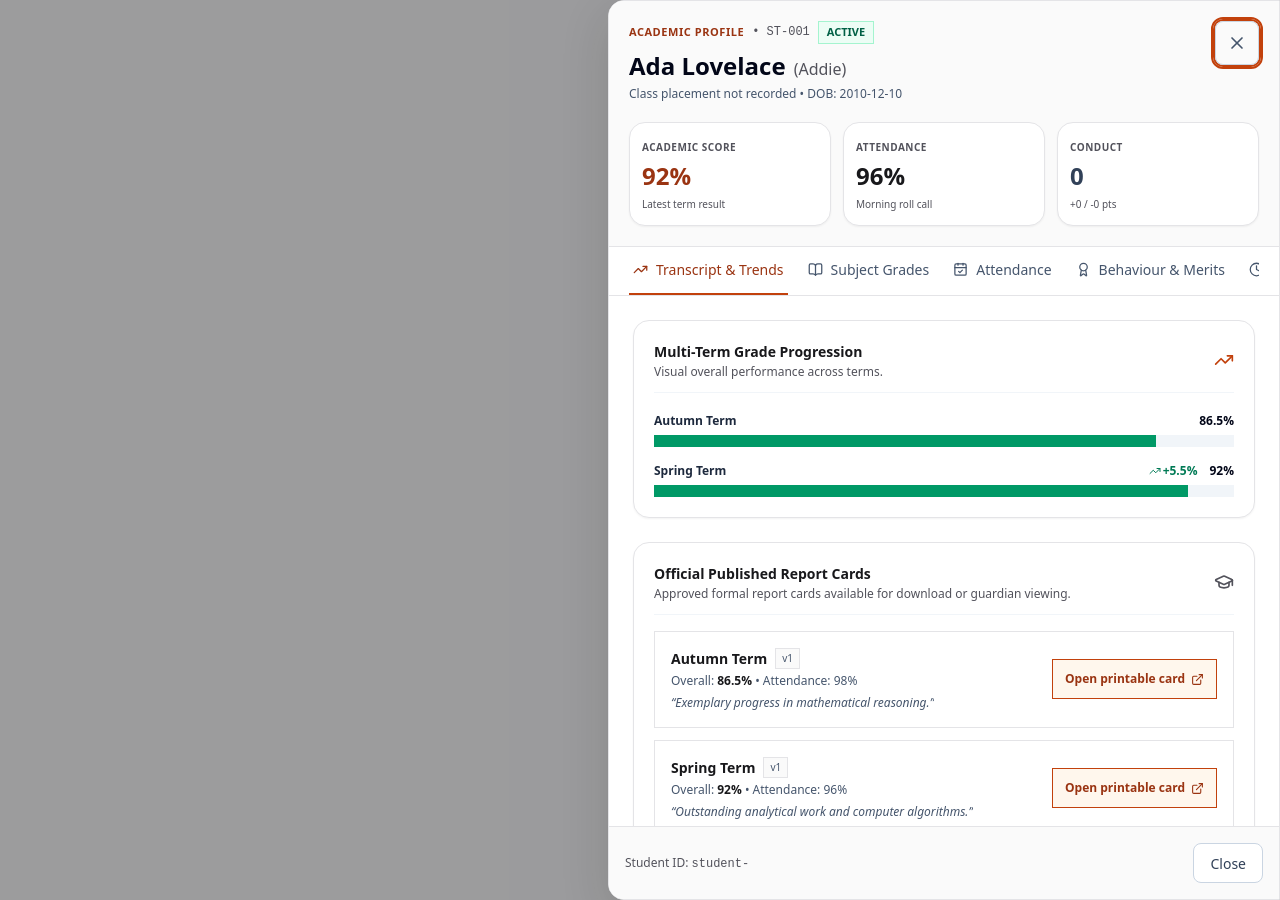
Scenario: StudentAcademicDrawer component › switches to Subject Grades tab and renders curriculum subject scores
The image size is (1280, 900).
Click the button "Subject Grades". click: point(868, 270)
box: x1=804 y1=246 x2=933 y2=294
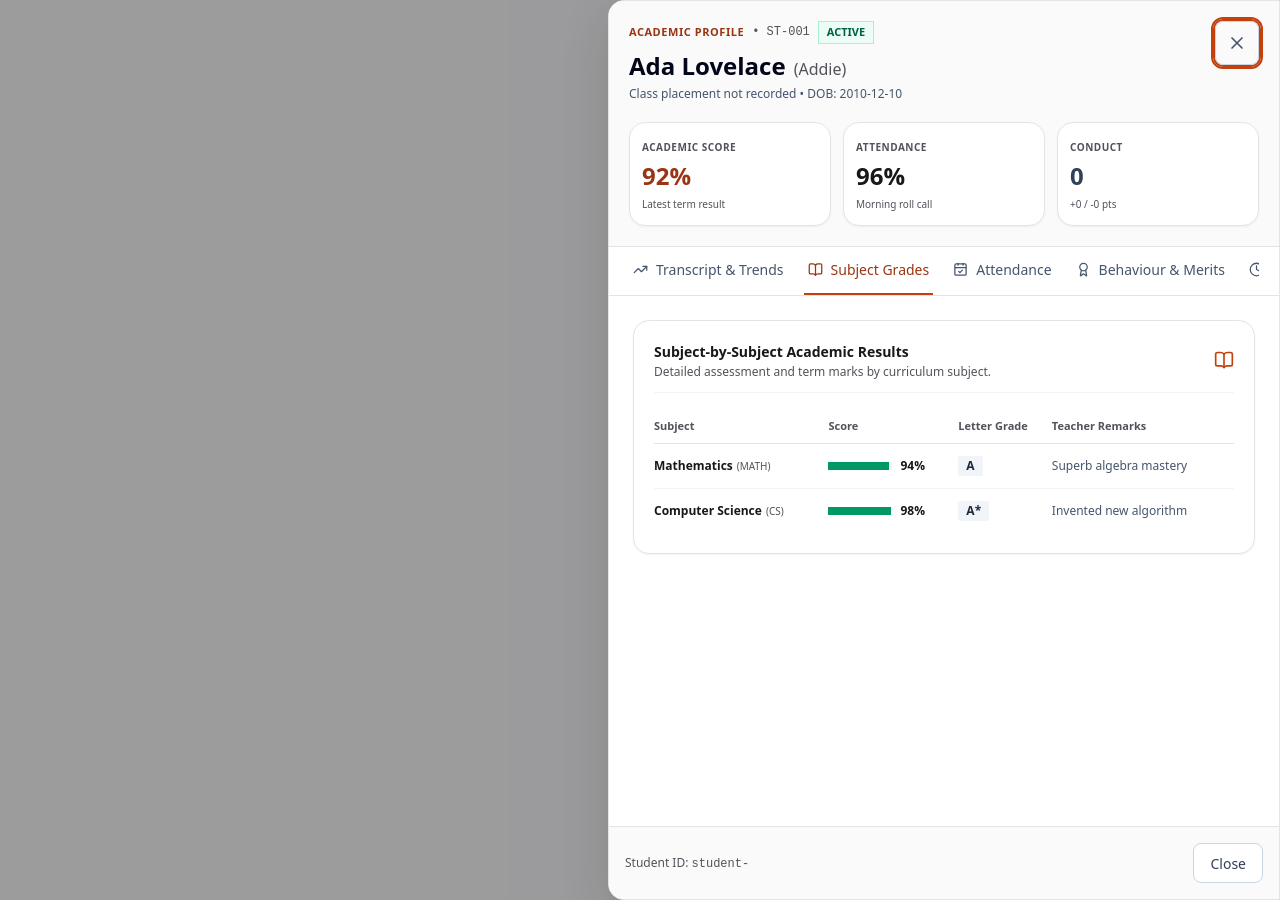
Now the heading "Subject-by-Subject Academic Results" is shown, box x1=654 y1=342 x2=909 y2=360
Now the text "Mathematics" is shown, box x1=654 y1=457 x2=733 y2=474
Now the text "94%" is shown, box x1=900 y1=458 x2=925 y2=474
